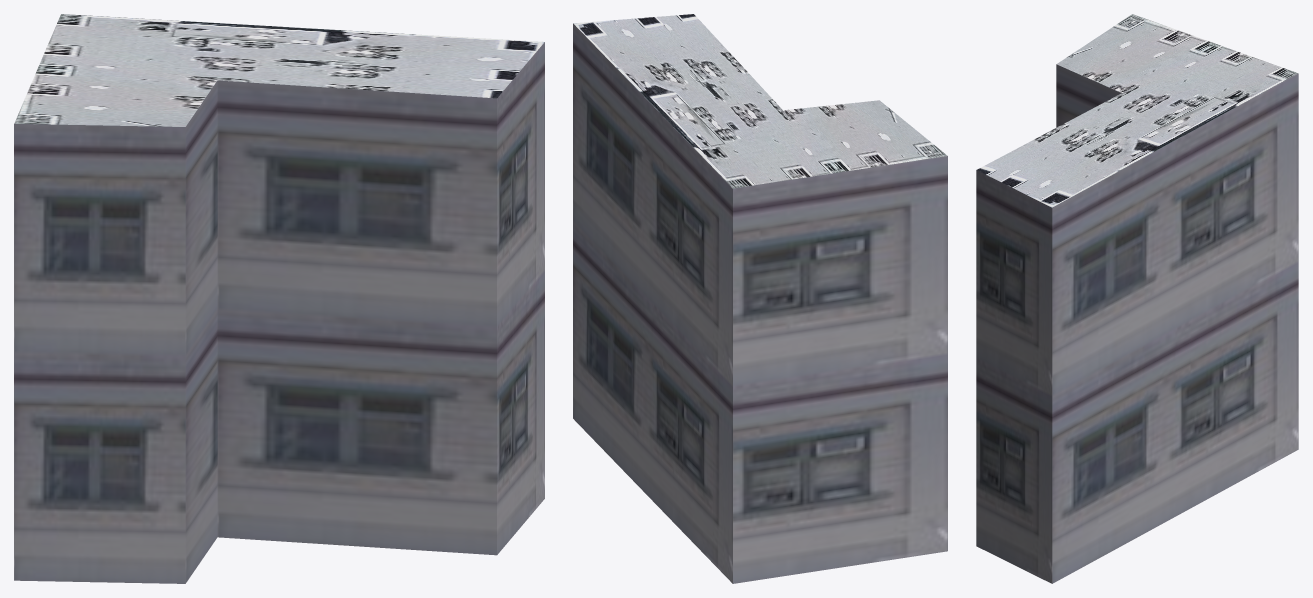
The model's file is ResTex__2941.fbx.
3 renders of one model, left to right at view 1: azimuth 30°, elevation 25°; view 2: azimuth 150°, elevation 25°; view 3: azimuth 270°, elevation 25°, orthographic. The views are drawn at different scales.
Parts seen in each view (by area): view 1: CityEngineMaterial_1_m, CityEngineMaterial_4_m; view 2: CityEngineMaterial_1_m, CityEngineMaterial_4_m; view 3: CityEngineMaterial_1_m, CityEngineMaterial_4_m.
Boxes of the visible parts, <box> form: CityEngineMaterial_1_m: <box>14,42,544,583</box>; CityEngineMaterial_4_m: <box>14,14,544,126</box>; CityEngineMaterial_1_m: <box>573,23,947,583</box>; CityEngineMaterial_4_m: <box>573,14,947,188</box>; CityEngineMaterial_1_m: <box>976,64,1298,583</box>; CityEngineMaterial_4_m: <box>977,14,1297,207</box>.
Bounding box in the file's own units: 6.62 × 6 × 4.65.
2 materials, 2 textured.
